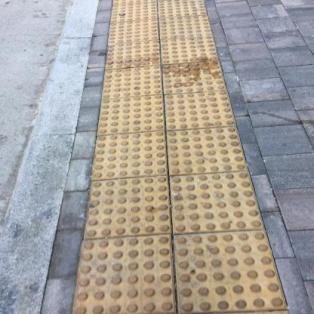Podoctatil: (64, 0, 293, 313)
